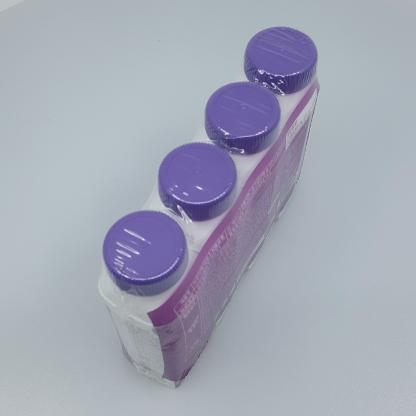-------------400ML: (98, 26, 320, 391)
